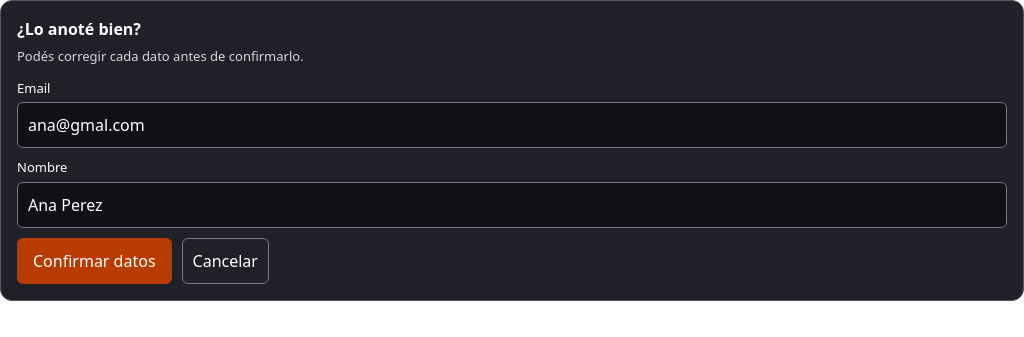
Editable voice data confirmation › rejects malformed email and blank required name
The image size is (1024, 337).
Replace the text in the field labelled "Email" with "invalid" at (512, 125), box [17, 102, 1007, 148]
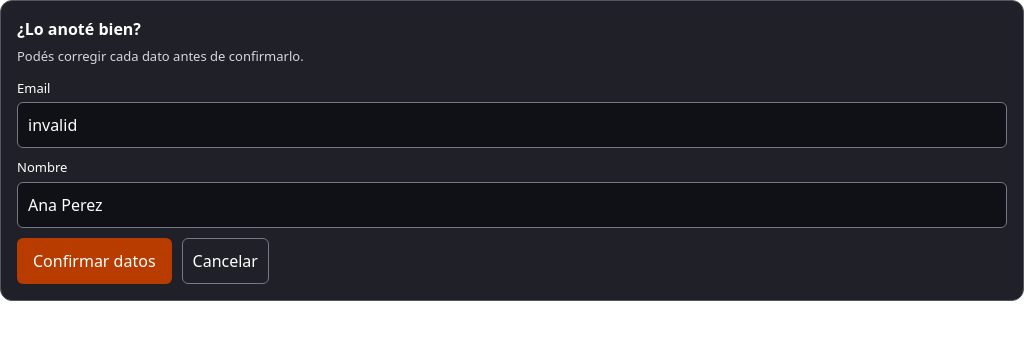
Submit the form
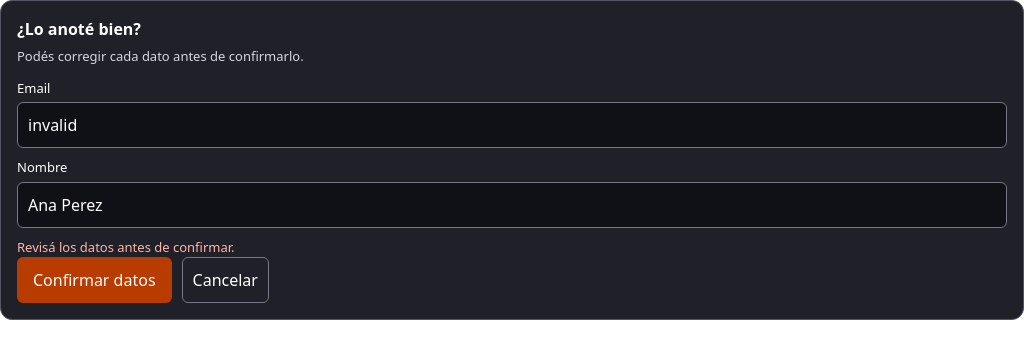
Result: the message "Revisá los datos antes de confirmar." is shown at [17, 238, 234, 256]
